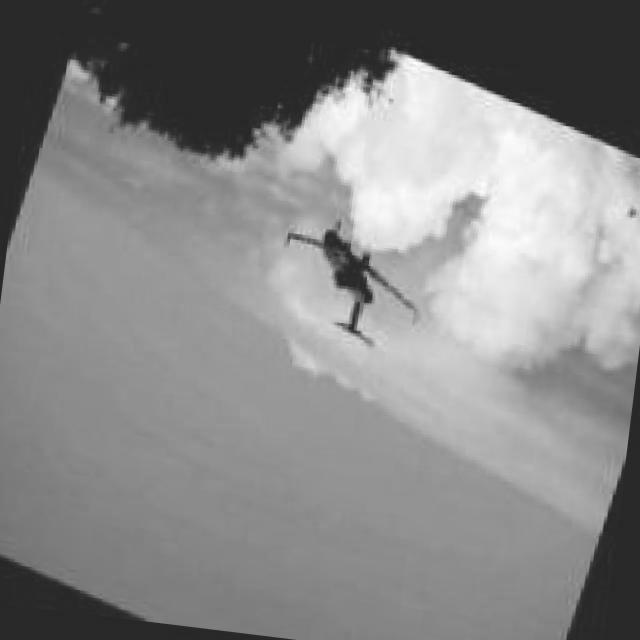aeroplane: (255, 192, 443, 357)
